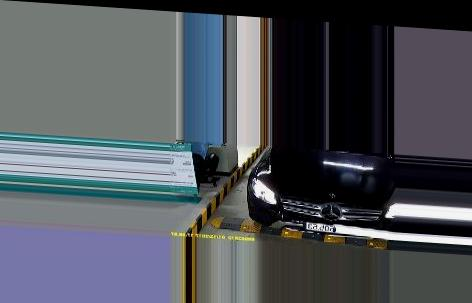License_Plate: (301, 219, 346, 234)
